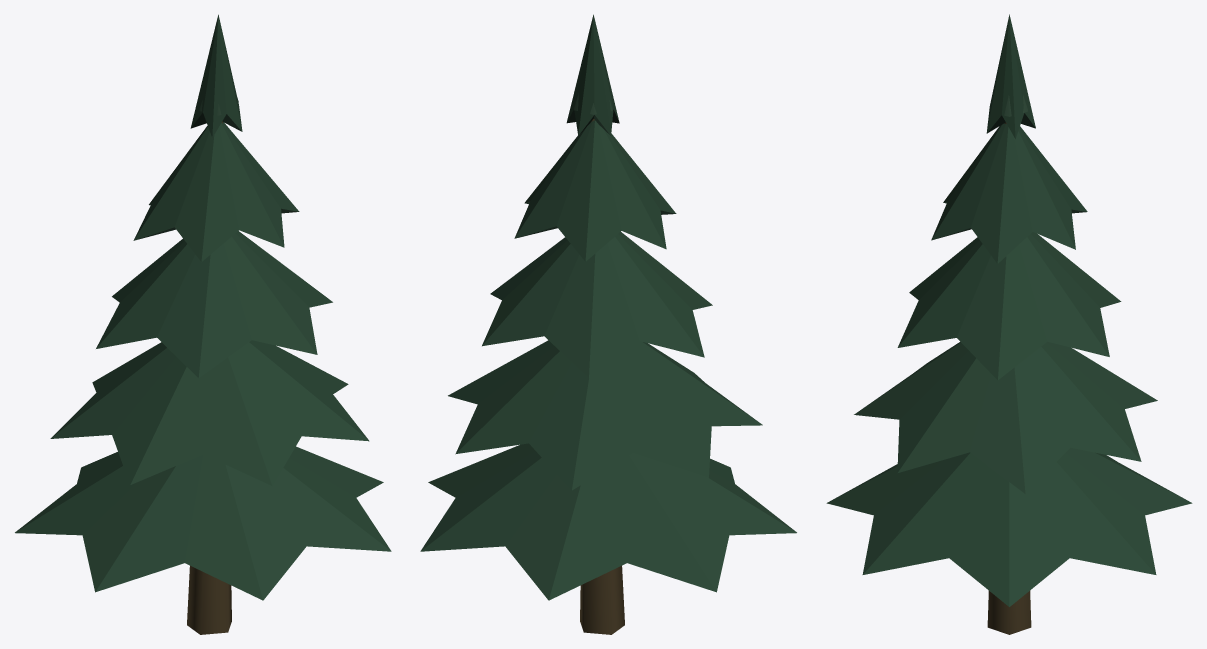
The model's file is pine.glb.
3 views of the same model, side by side, from view 1: azimuth 30°, elevation 25°; view 2: azimuth 150°, elevation 25°; view 3: azimuth 270°, elevation 25° (orthographic).
Visible parts, largest first — view 1: pine; view 2: pine; view 3: pine.
Part boxes in pixels (x1=…): pine: x1=15, y1=14, x2=391, y2=634; pine: x1=420, y1=14, x2=796, y2=634; pine: x1=826, y1=14, x2=1192, y2=634.
Size of the model in its own units: 20 by 35.42 by 19.15.
